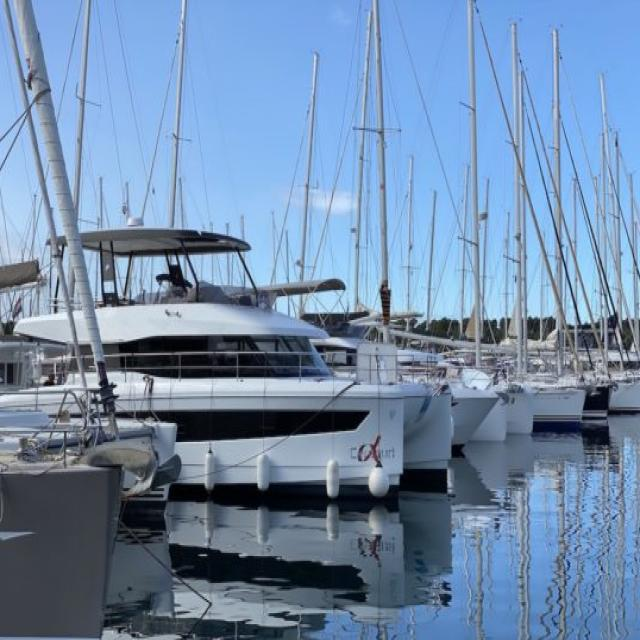houseboat: (7, 192, 421, 476)
